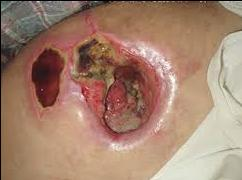Stage4: (61, 22, 185, 171)
